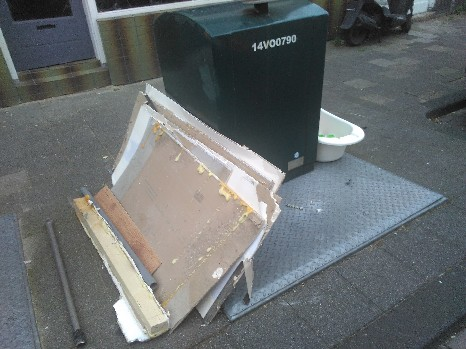Container: (184, 14, 309, 165)
Papier: (122, 97, 255, 285)
Rest: (317, 101, 361, 171)
